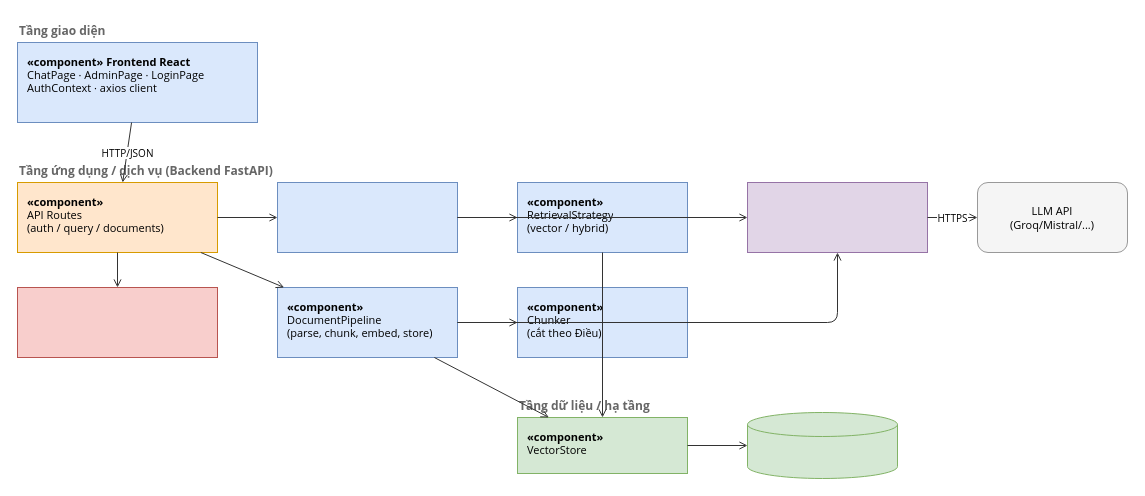
Some shapes in this 1145 by 496 pixel diagram are drawn without their labels. The shapes that lost their labels are listed below. From the top down, each one's centre as x and y in pixels, then its label:
At point 367,217: "«component» QueryPipeline (gating, synthesis)".
At point 837,217: "«component» Providers (LLM factory + Embedding)".
At point 117,322: "«component» Auth (PBKDF2 + token HMAC)".
At point 822,445: "ChromaDB".
